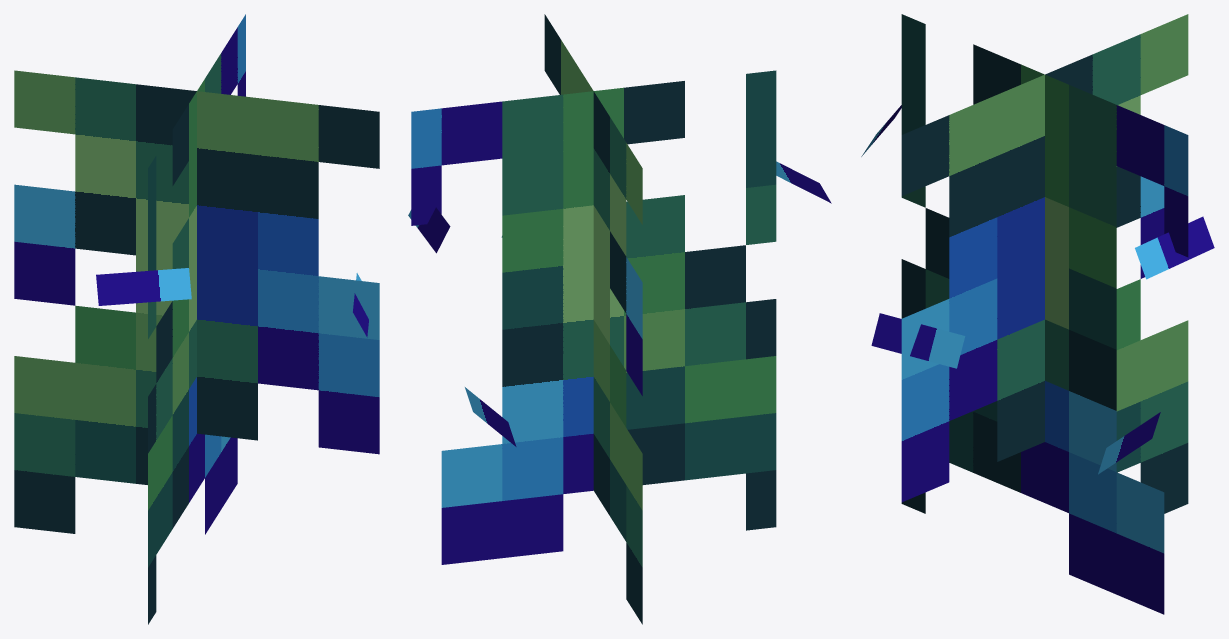
The model's file is plam_stem_stage2.obj.
The picture shows the model from 3 angles, left to right: view 1: azimuth 30°, elevation 25°; view 2: azimuth 150°, elevation 25°; view 3: azimuth 270°, elevation 25°; orthographic projection. The views are drawn at different scales.
Parts seen in each view (by area): view 1: cube_1, cube_0, cube_4; view 2: cube_0, cube_1, cube_5, cube_2, cube_4; view 3: cube_1, cube_0, cube_3, cube_2, cube_5.
Boxes of the visible parts, left/top/right/bottom form: cube_1: left=14, top=70, right=379, bottom=533; cube_0: left=148, top=14, right=245, bottom=624; cube_4: left=96, top=268, right=191, bottom=305; cube_0: left=411, top=70, right=776, bottom=564; cube_1: left=544, top=14, right=642, bottom=624; cube_5: left=465, top=387, right=516, bottom=446; cube_2: left=408, top=207, right=450, bottom=253; cube_4: left=776, top=161, right=831, bottom=203; cube_1: left=901, top=14, right=1188, bottom=513; cube_0: left=901, top=14, right=1188, bottom=614; cube_3: left=871, top=313, right=965, bottom=368; cube_2: left=1135, top=216, right=1214, bottom=279; cube_5: left=1098, top=412, right=1160, bottom=474.
Size of the model in its own units: 0.7025 by 1 by 0.6557.
